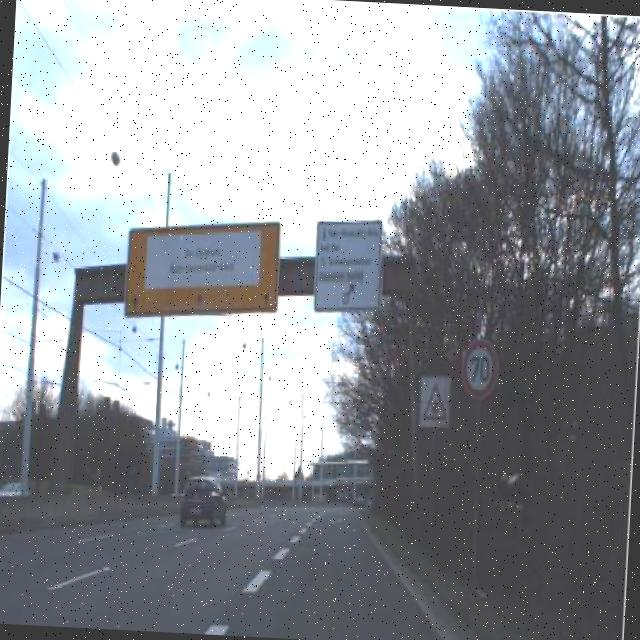Ograniczenie predkosci do 70: (458, 336, 500, 404)
